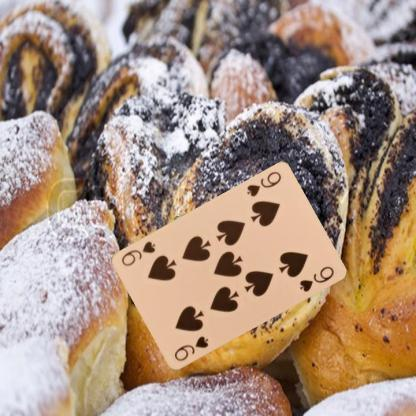9s: (244, 168, 282, 198), (171, 334, 210, 363)
